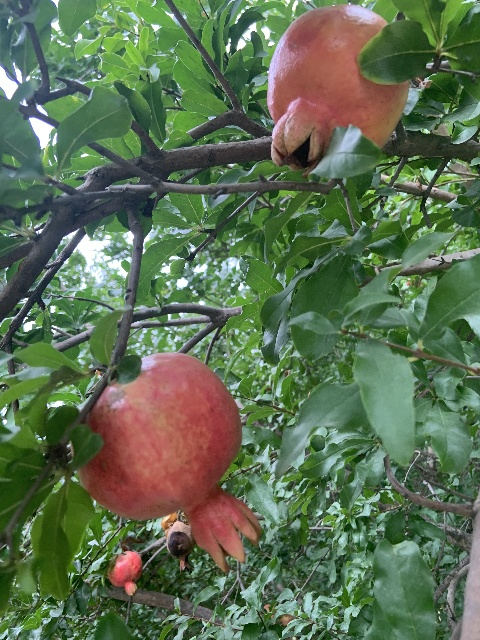ripe: (77, 352, 262, 573), (266, 3, 408, 176), (107, 550, 142, 596)
